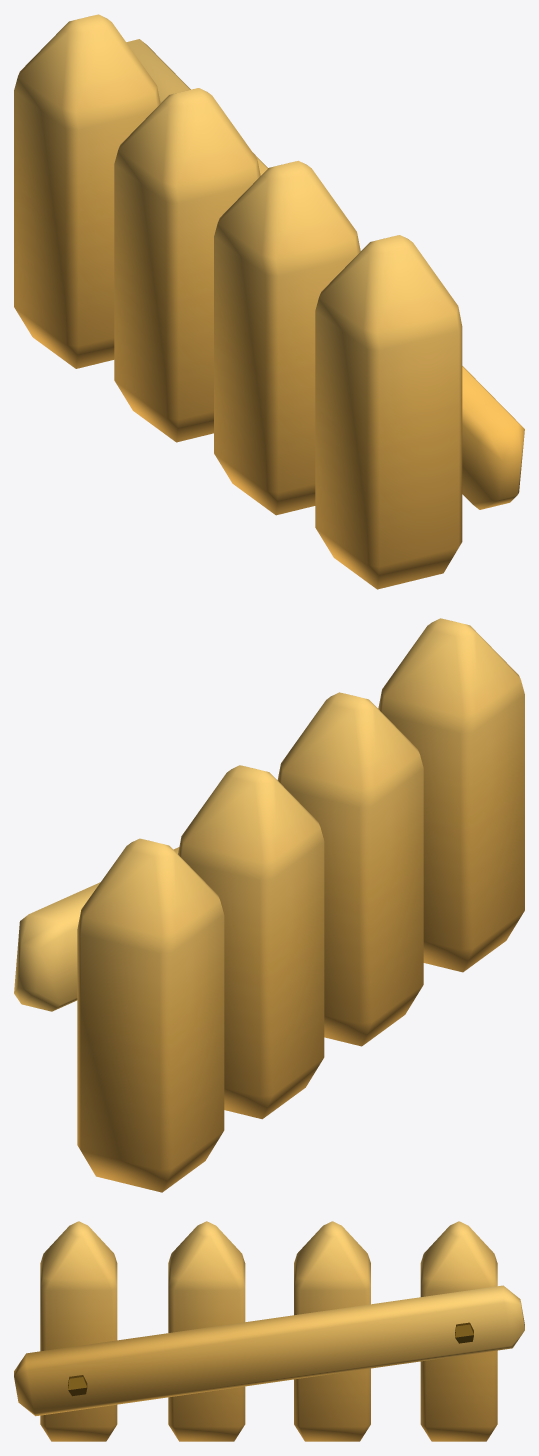
Rendered from OB_Fence_4.FBX.
The picture shows the model from 3 angles, top to bottom: view 1: azimuth 30°, elevation 25°; view 2: azimuth 150°, elevation 25°; view 3: azimuth 270°, elevation 25°; orthographic projection. The views are drawn at different scales.
Visible parts, largest first — view 1: OB_Fence_4; view 2: OB_Fence_4; view 3: OB_Fence_4.
Boxes of the visible parts, x1,y1,x2,y2 form: OB_Fence_4: [14, 14, 524, 589]; OB_Fence_4: [14, 618, 524, 1192]; OB_Fence_4: [14, 1221, 524, 1441].
Size of the model in its own units: 26.22 by 52.33 by 117.
